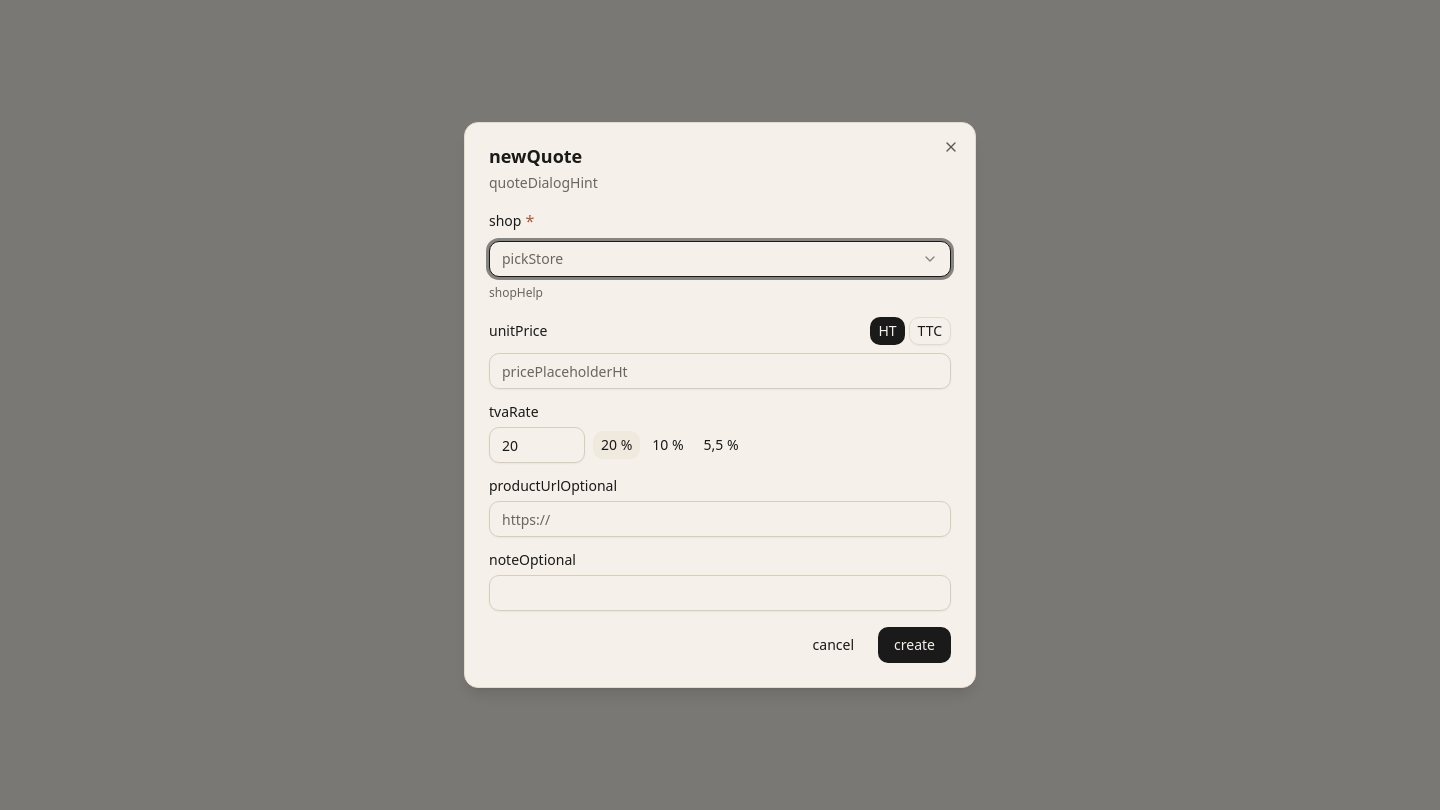
Test: QuoteFormDialog HT/TTC handling › shows both figures before submitting so the entry can be checked
Step 1. Click the button with test id "store-select-trigger" → (533, 258), box [489,241,951,277]
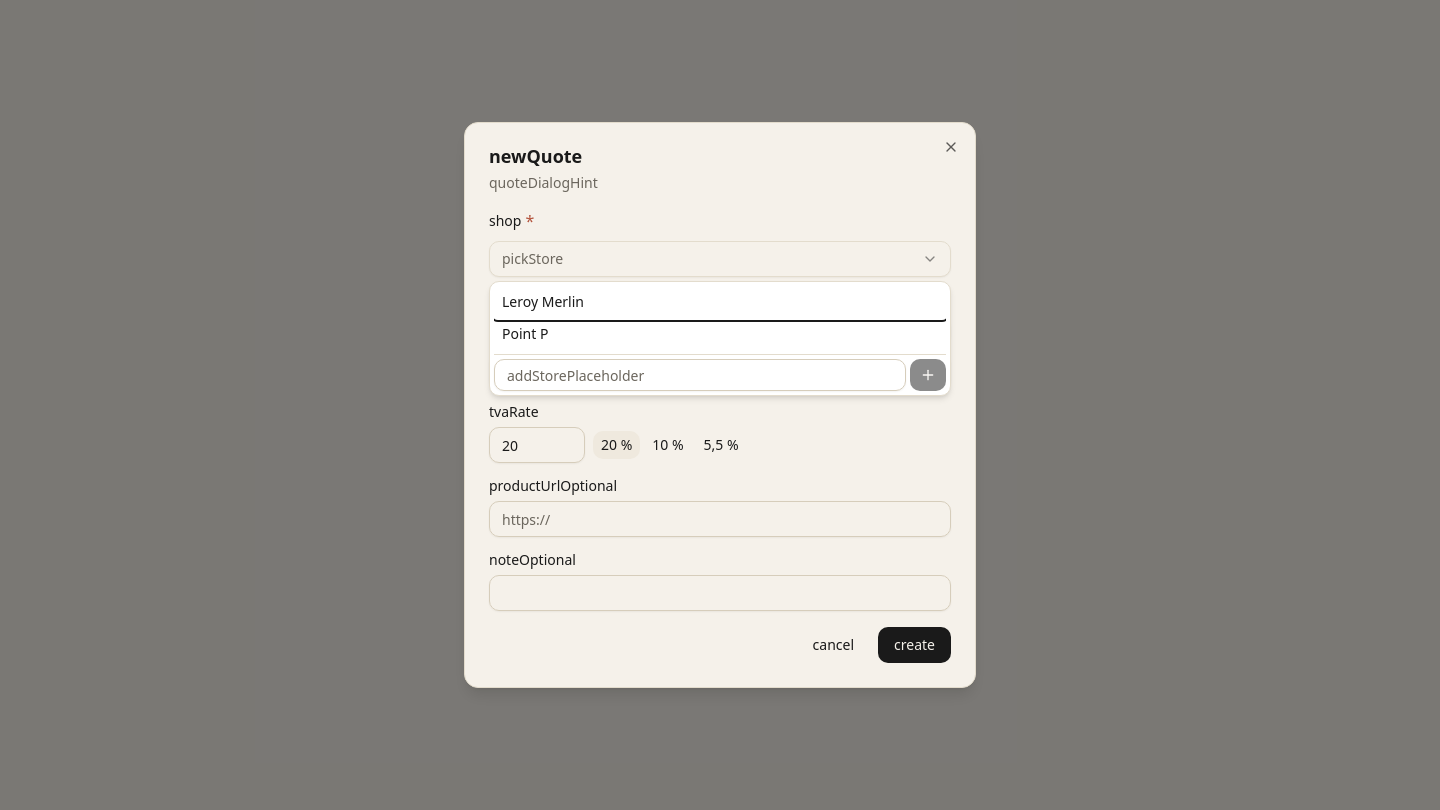
Step 2. Click the button "Leroy Merlin" → (543, 302), box [494,286,946,318]
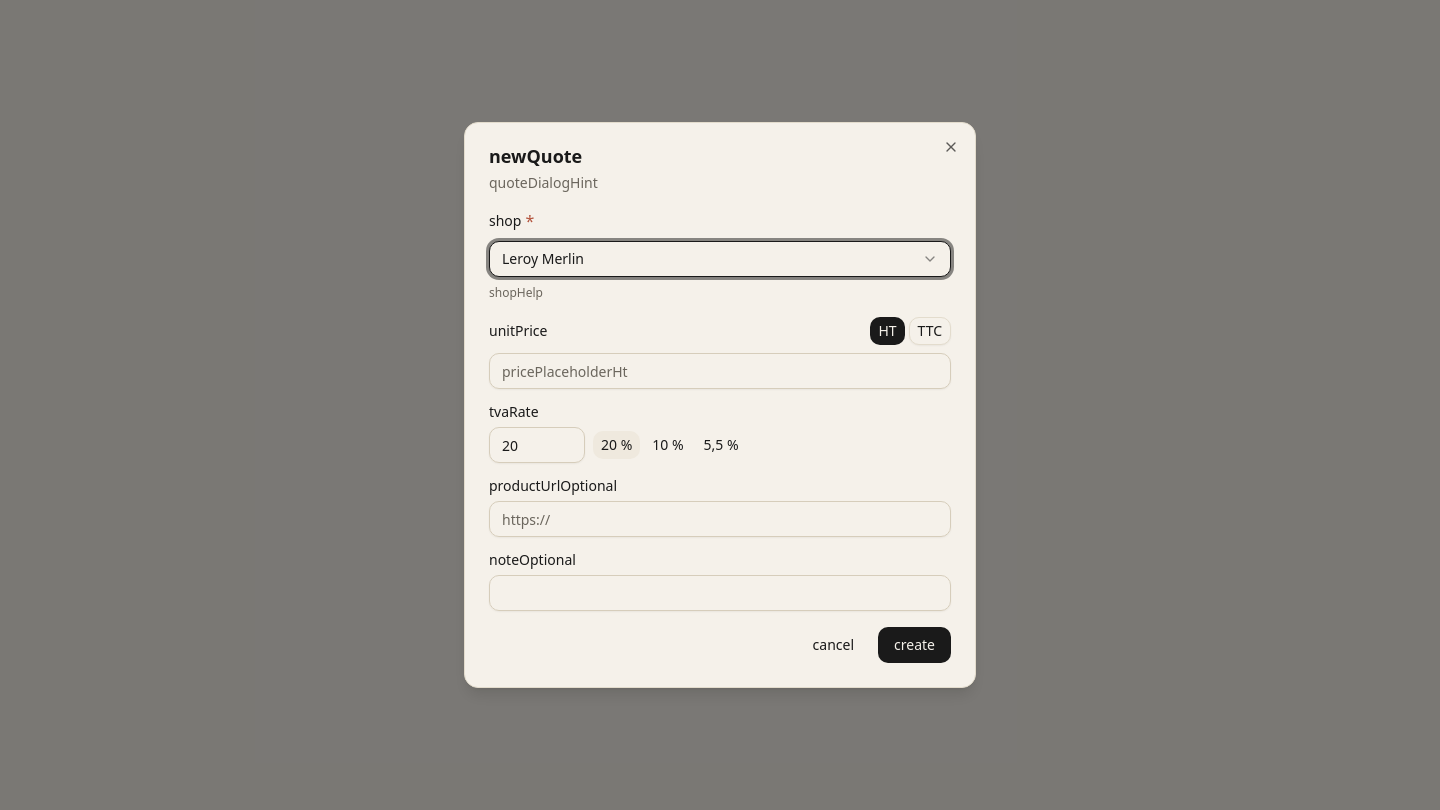
Step 3. Click the button with test id "price-mode-ttc" → (930, 331), box [909,317,951,345]
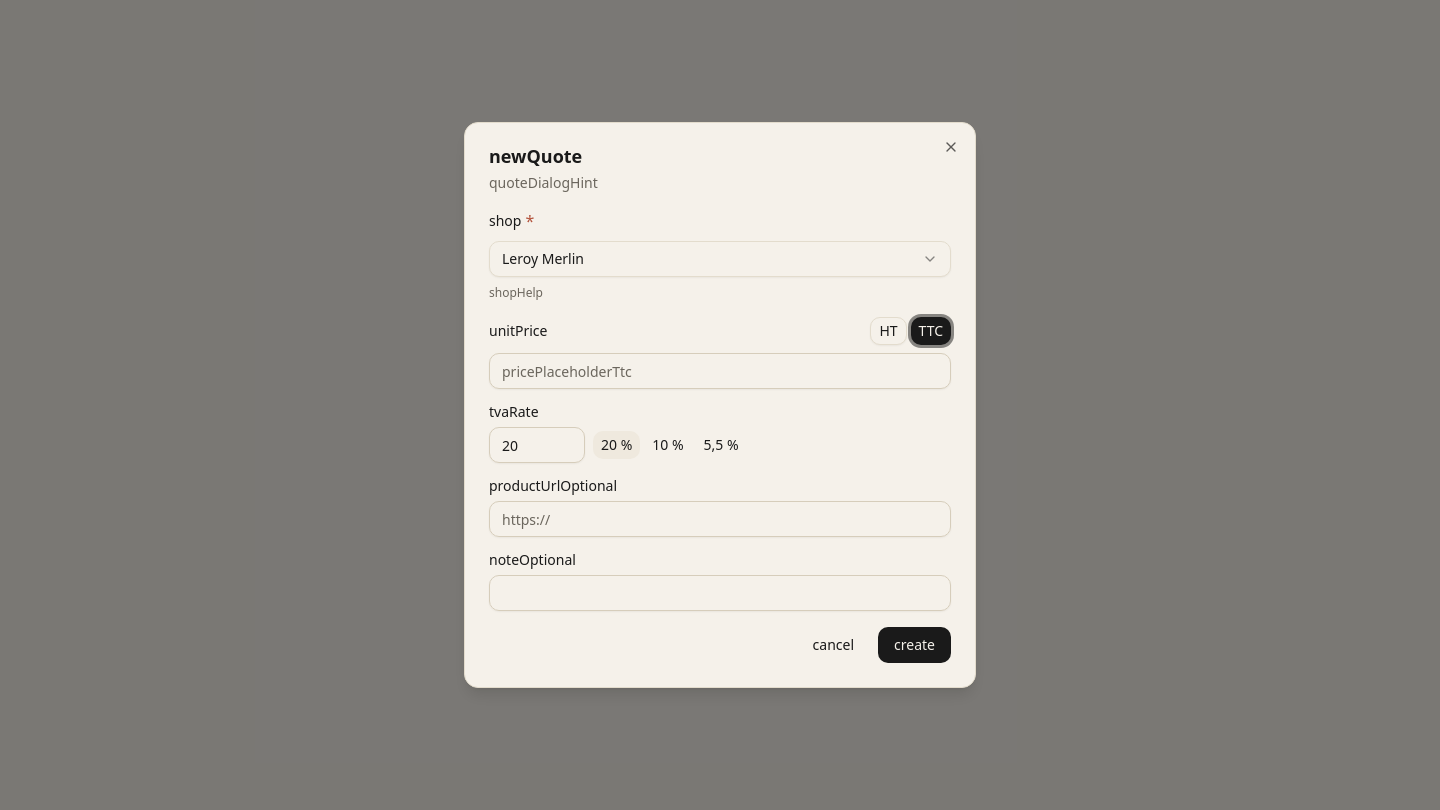
Step 4. Type "12.90" into the field labelled "unitPrice" → (720, 371), box [489,353,951,389]
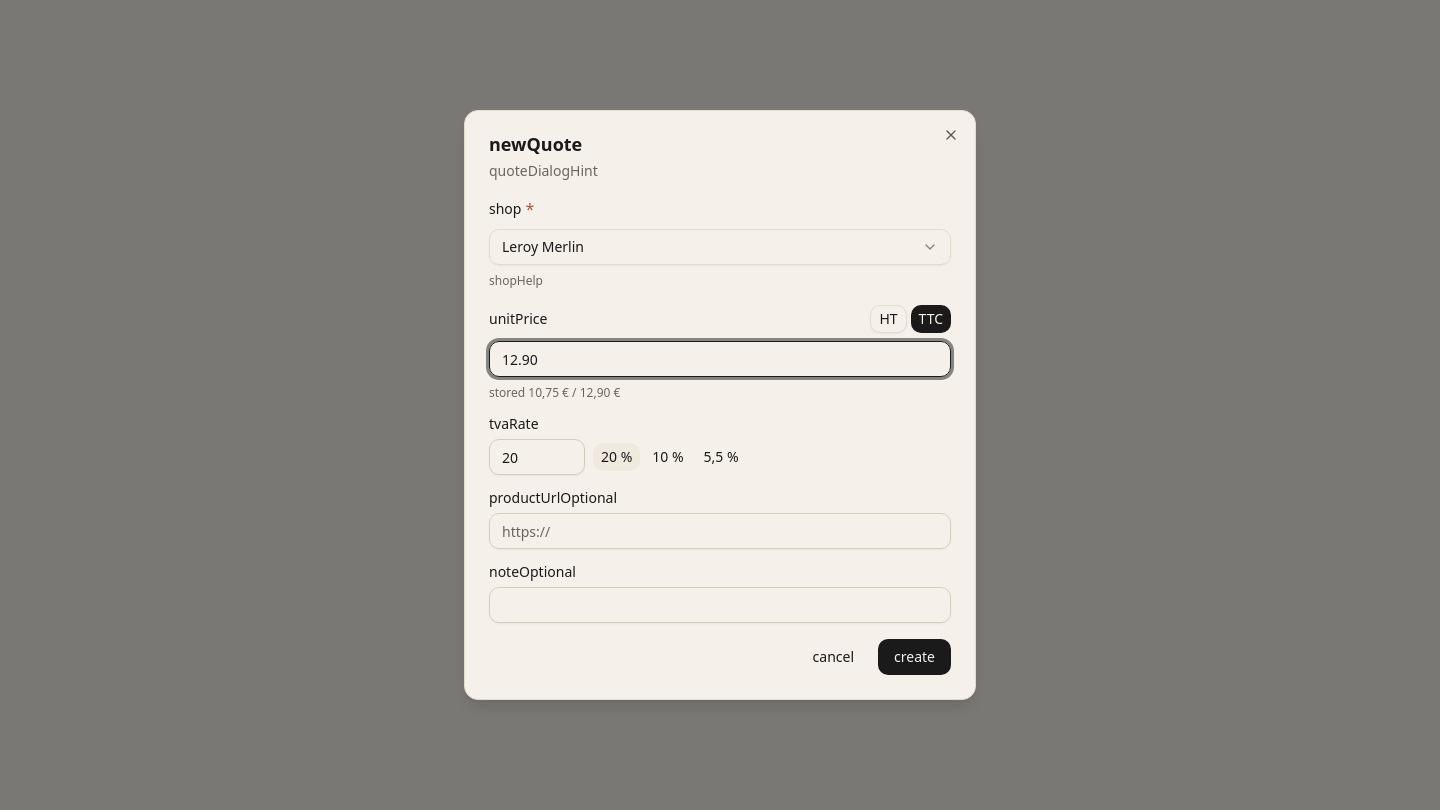
Expected: the text with test id "price-conversion" shows "10,75", [489,384,620,401]
Expected: the text with test id "price-conversion" shows "12,90", [489,384,620,401]
